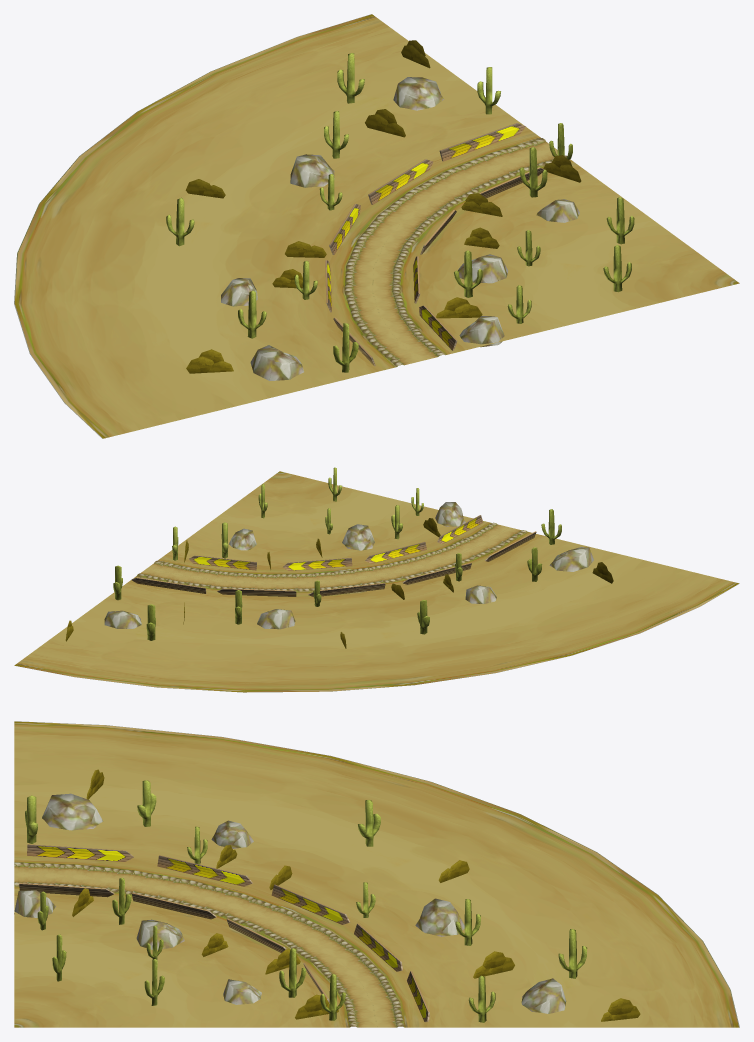
File: DesertRoad01_RightCurve.FBX
3 renders of one model, top to bottom at view 1: azimuth 30°, elevation 25°; view 2: azimuth 150°, elevation 25°; view 3: azimuth 270°, elevation 25°, orthographic. The views are drawn at different scales.
Visible parts, largest first — view 1: Road, Stone (×7), Fence (×2), Bush; view 2: Road, Stone (×7), Fence (×8); view 3: Road, Stone (×7), Fence (×7), Cactus (×8), Bush (×3).
Boxes of the visible parts, x1=… form: Road: x1=14, y1=14, x2=739, y2=438; Stone (×7): x1=221, y1=77, x2=579, y2=380; Fence (×2): x1=368, y1=123, x2=525, y2=204; Bush: x1=186, y1=349, x2=233, y2=373; Road: x1=14, y1=471, x2=739, y2=692; Stone (×7): x1=104, y1=502, x2=593, y2=629; Fence (×8): x1=131, y1=515, x2=483, y2=596; Road: x1=14, y1=721, x2=739, y2=1027; Stone (×7): x1=14, y1=793, x2=566, y2=1013; Fence (×7): x1=19, y1=844, x2=402, y2=971; Cactus (×8): x1=25, y1=780, x2=587, y2=1022; Bush (×3): x1=295, y1=951, x2=640, y2=1021.
Size of the model in its own units: 10000 by 828 by 10006.
